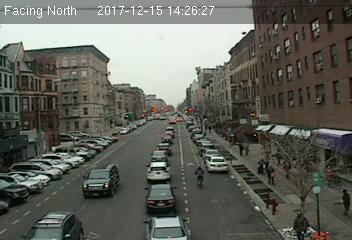bicycle: (194, 165, 205, 189)
car: (19, 212, 83, 240), (82, 163, 120, 196), (143, 216, 192, 240), (144, 184, 177, 211), (145, 161, 172, 181), (205, 155, 229, 172), (149, 150, 168, 162), (156, 142, 171, 154), (160, 134, 173, 141)
pedestrian: (291, 212, 310, 240), (267, 165, 277, 185), (257, 156, 265, 176), (236, 141, 245, 157)
